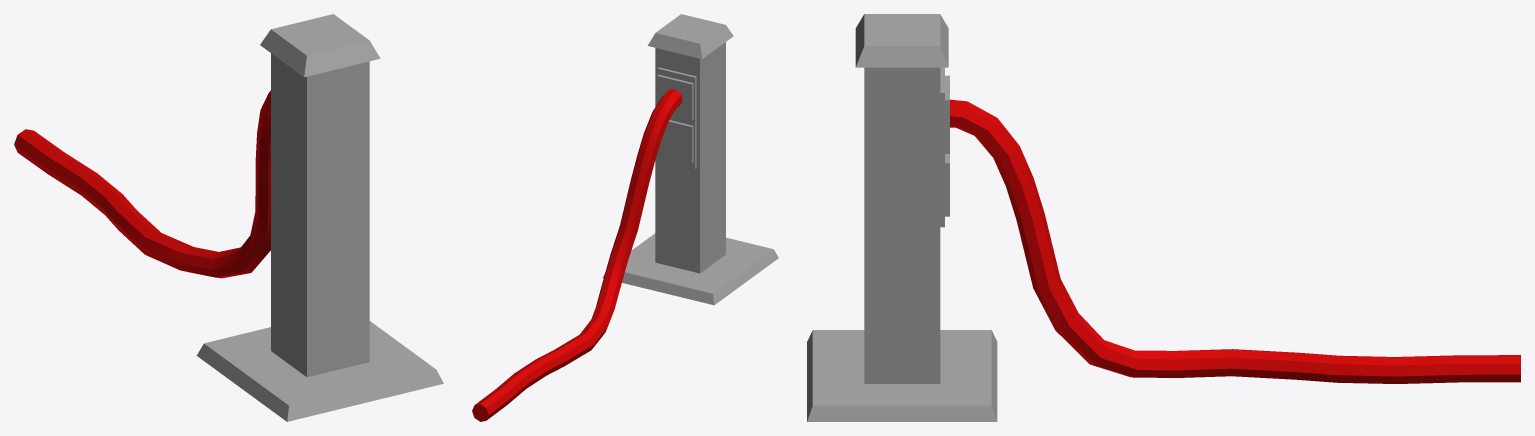
Rendered from EnergyPool1.fbx.
3 views of the same model, side by side, from view 1: azimuth 30°, elevation 25°; view 2: azimuth 150°, elevation 25°; view 3: azimuth 270°, elevation 25° (orthographic). The views are drawn at different scales.
Parts seen in each view (by area): view 1: EnergyPool1, Wire5; view 2: EnergyPool1, Wire5, EnergyPool3, EnergyPool2, EnergyPool; view 3: EnergyPool1, Wire5, EnergyPool2.
Part boxes in pixels (x1,y1,x2,y2): EnergyPool1: (196, 14, 443, 421); Wire5: (14, 90, 270, 278); EnergyPool1: (602, 14, 778, 305); Wire5: (472, 89, 682, 421); EnergyPool3: (657, 120, 693, 163); EnergyPool2: (657, 67, 696, 168); EnergyPool: (657, 75, 693, 120); EnergyPool1: (807, 14, 997, 421); Wire5: (950, 99, 1520, 383); EnergyPool2: (940, 67, 944, 227).
Bounding box in the file's own units: 0.00232 × 0.00474 × 0.00872.
